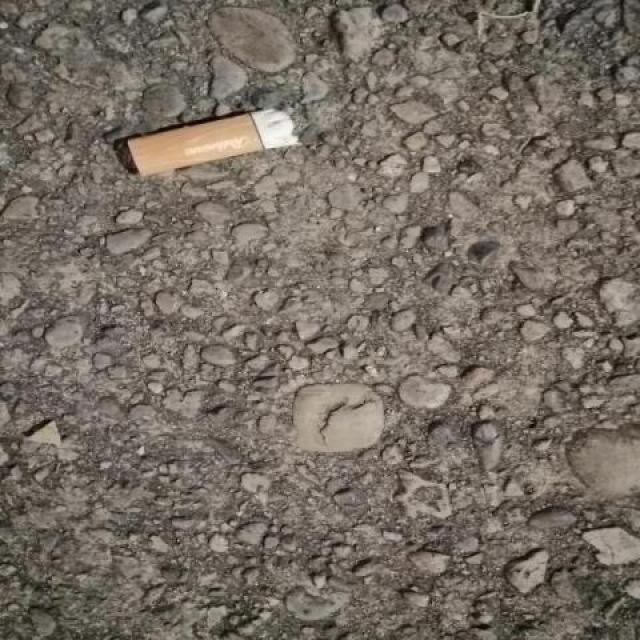non-organic waste: (121, 100, 304, 184)
